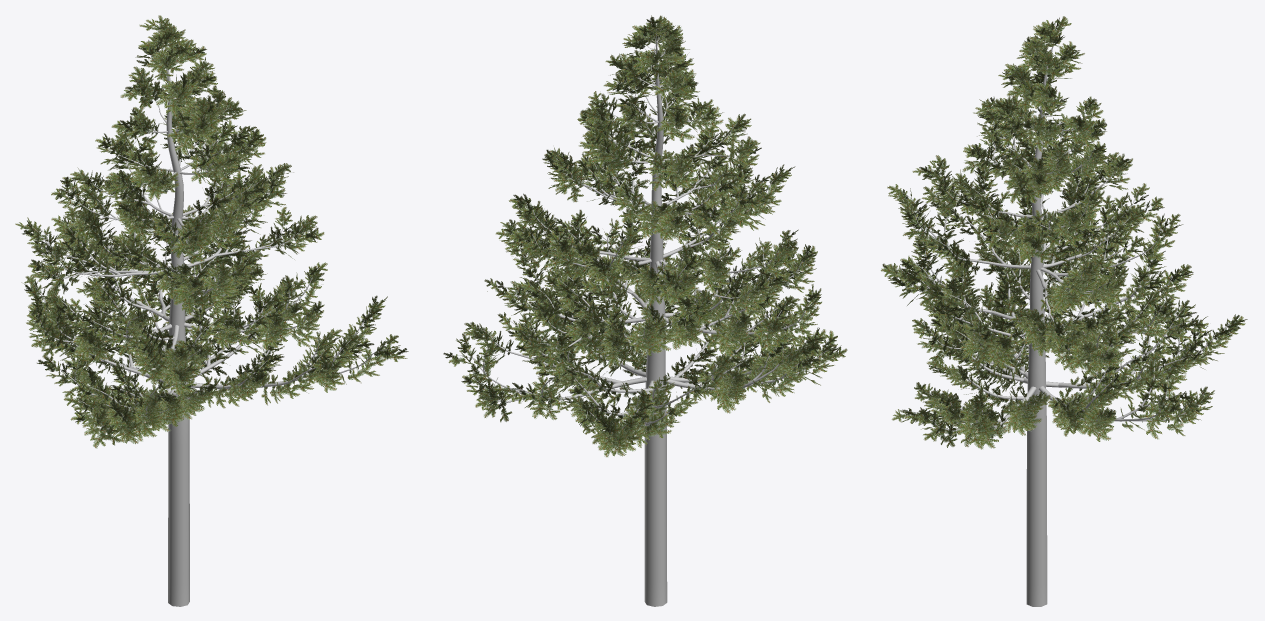
The model's file is arbol.fbx.
The picture shows the model from 3 angles, left to right: view 1: azimuth 30°, elevation 25°; view 2: azimuth 150°, elevation 25°; view 3: azimuth 270°, elevation 25°; orthographic projection. The views are drawn at different scales.
Parts seen in each view (by area): view 1: Tree170_Treee_leavees; view 2: Tree170_Treee_leavees; view 3: Tree170_Treee_leavees.
Boxes of the visible parts, x1,y1,x2,y2 form: Tree170_Treee_leavees: (15,15,408,606); Tree170_Treee_leavees: (443,15,847,606); Tree170_Treee_leavees: (880,16,1247,606).
Bounding box in the file's own units: 1103 × 1812 × 1050.
